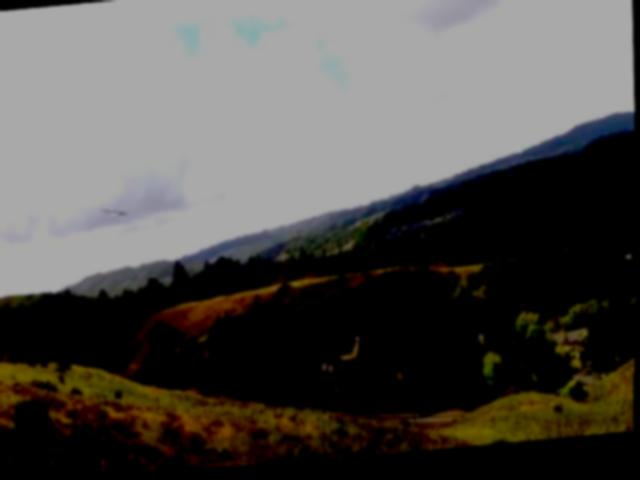iha: (99, 205, 134, 222)
